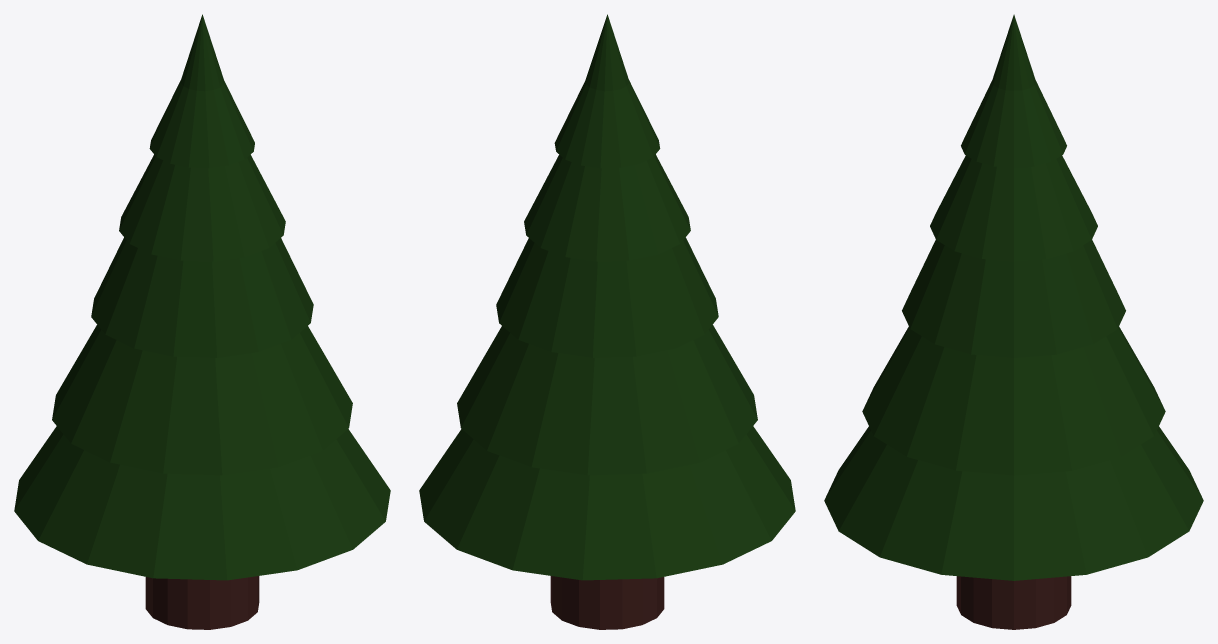
The model's file is Tanne1.fbx.
3 renders of one model, left to right at view 1: azimuth 30°, elevation 25°; view 2: azimuth 150°, elevation 25°; view 3: azimuth 270°, elevation 25°, orthographic.
Parts seen in each view (by area): view 1: Tanne1; view 2: Tanne1; view 3: Tanne1.
Part boxes in pixels (x1,y1,x2,y2): Tanne1: (14, 14, 390, 629); Tanne1: (419, 14, 795, 629); Tanne1: (824, 14, 1203, 629).
Bounding box in the file's own units: 1602 × 2755 × 1602.
